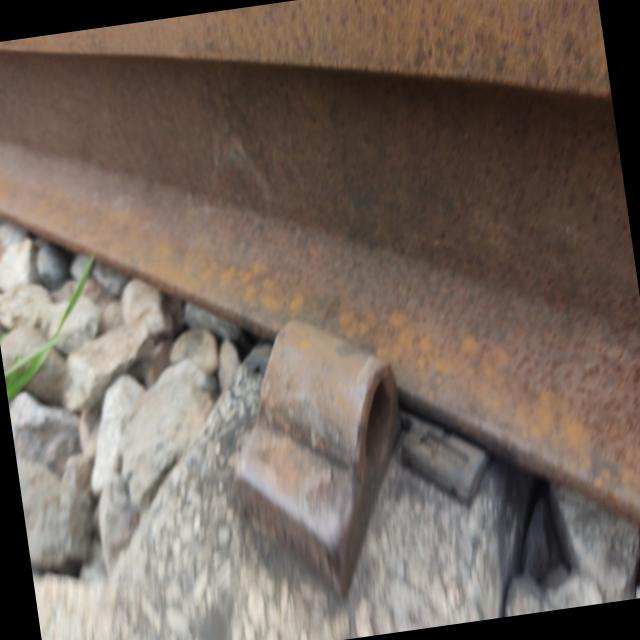track_bolt_missing: (244, 300, 412, 490)
